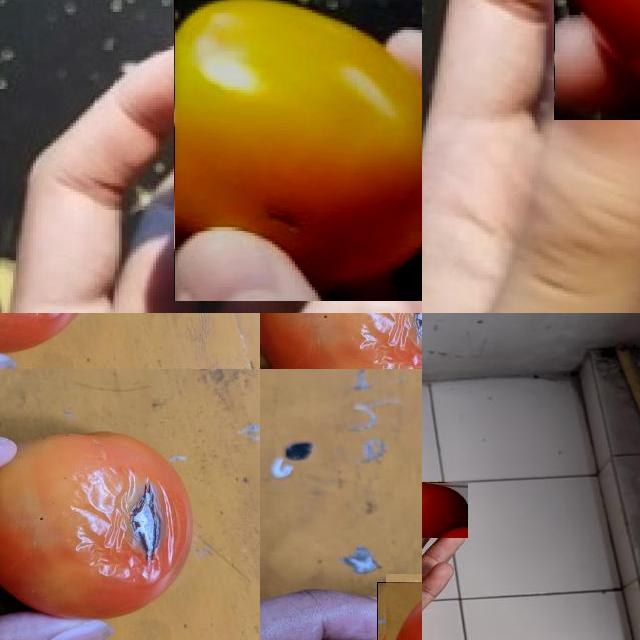Fresh Tomato: (422, 481, 468, 538)
Rotten Tomato: (174, 0, 422, 301)
